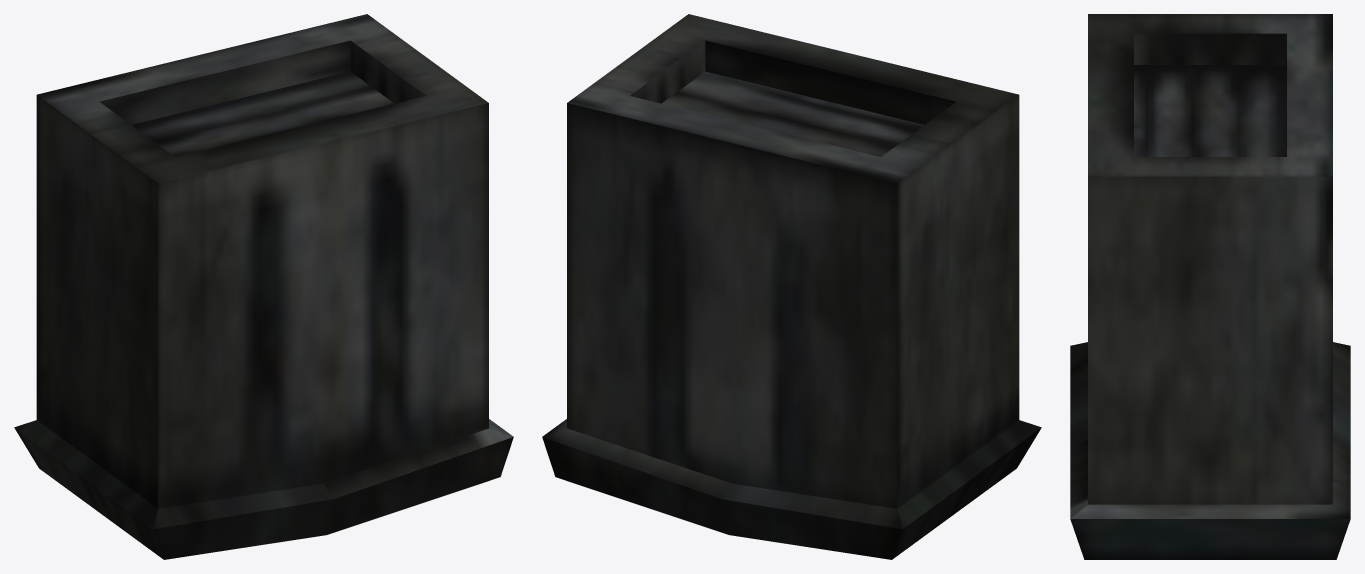
File: ammo.FBX
The picture shows the model from 3 angles, left to right: view 1: azimuth 30°, elevation 25°; view 2: azimuth 150°, elevation 25°; view 3: azimuth 270°, elevation 25°; orthographic projection.
Visible parts, largest first — view 1: RC5300amount; view 2: RC5300amount; view 3: RC5300amount.
Part boxes in pixels (x1,y1,x2,y2): RC5300amount: (14, 14, 513, 559); RC5300amount: (542, 14, 1041, 559); RC5300amount: (1070, 14, 1350, 559).
Bounding box in the file's own units: 18.62 × 19.29 × 12.44.
